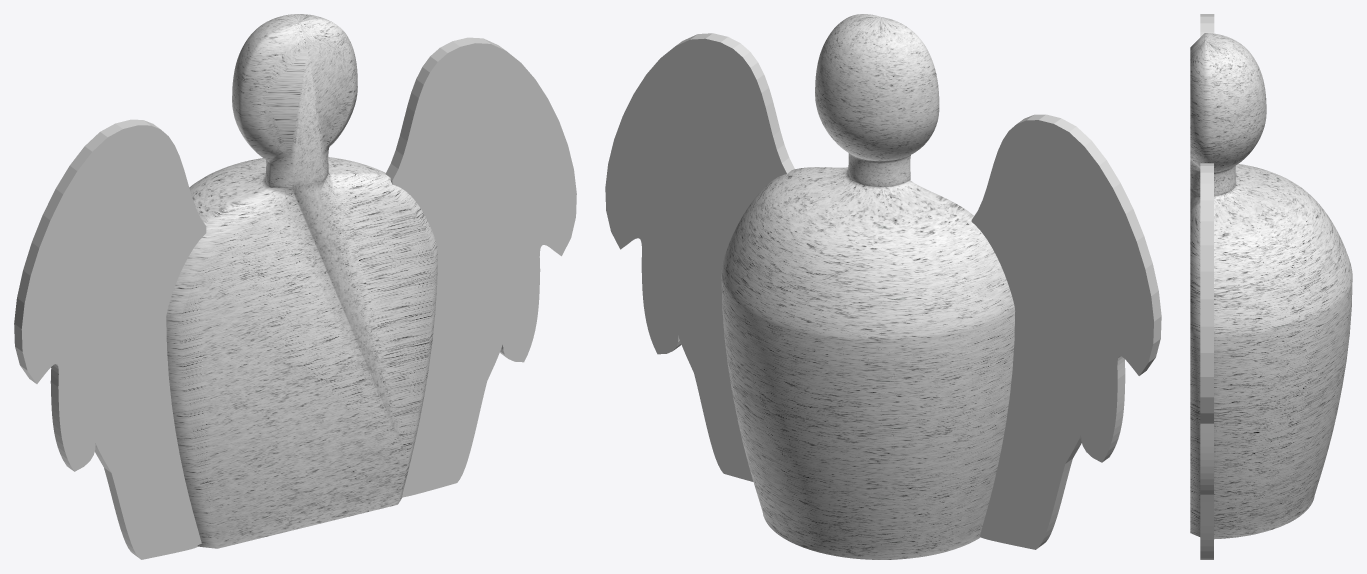
Rendered from Angel.glb.
3 renders of one model, left to right at view 1: azimuth 30°, elevation 25°; view 2: azimuth 150°, elevation 25°; view 3: azimuth 270°, elevation 25°, orthographic. The views are drawn at different scales.
Parts seen in each view (by area): view 1: Angel; view 2: Angel; view 3: Angel.
Boxes of the visible parts, x1=… form: Angel: x1=14, y1=14, x2=576, y2=559; Angel: x1=605, y1=14, x2=1161, y2=559; Angel: x1=1190, y1=14, x2=1352, y2=559.
Bounding box in the file's own units: 2.48 × 2.12 × 0.6899.
1 material, 1 textured.
